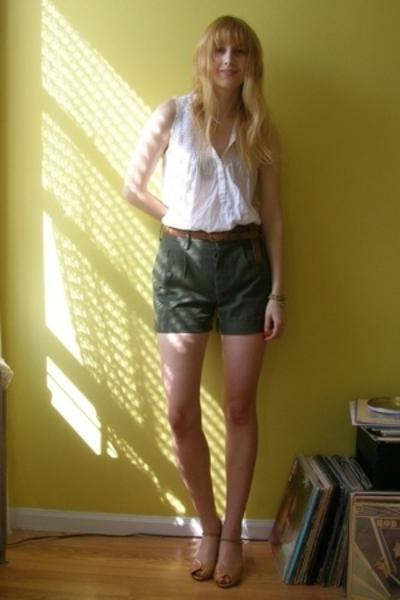shirt: (162, 84, 258, 232)
shoe: (191, 540, 233, 582)
shorts: (152, 242, 272, 336)
